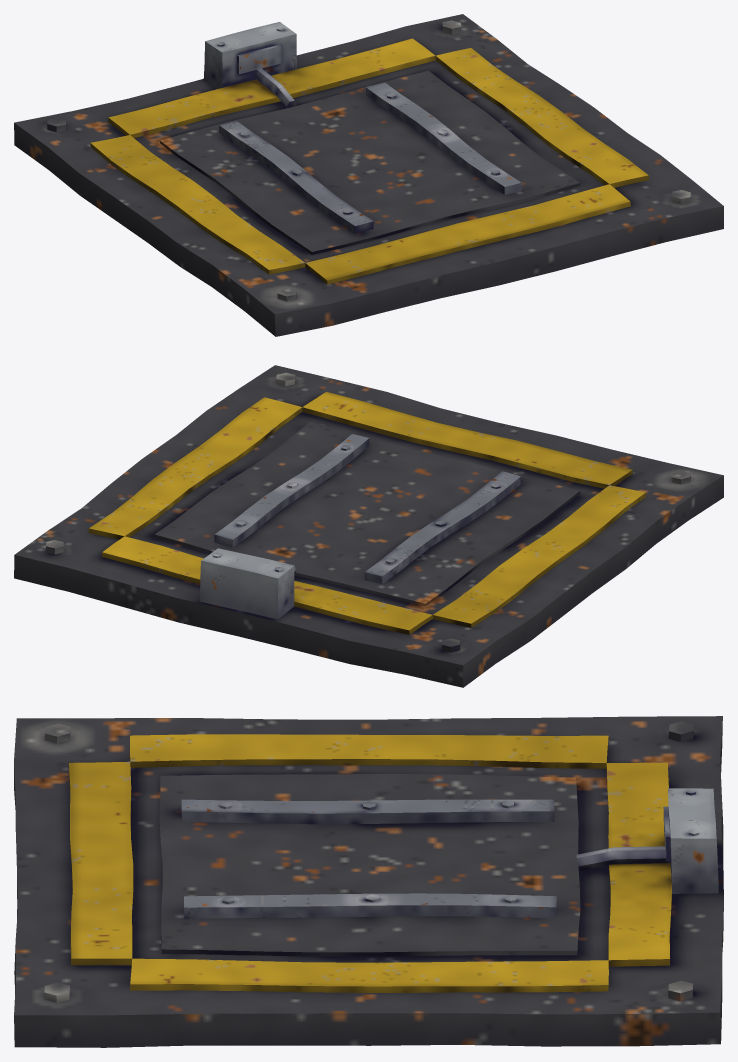
The model's file is MachinePad.glb.
3 renders of one model, top to bottom at view 1: azimuth 30°, elevation 25°; view 2: azimuth 150°, elevation 25°; view 3: azimuth 270°, elevation 25°, orthographic. The views are drawn at different scales.
Parts seen in each view (by area): view 1: Plate, Stripes, Hardware; view 2: Plate, Stripes, Hardware; view 3: Plate, Stripes, Hardware.
Boxes of the visible parts, x1,y1,x2,y2 form: Plate: [14, 14, 723, 336]; Stripes: [90, 38, 648, 284]; Hardware: [203, 22, 521, 233]; Plate: [14, 365, 723, 687]; Stripes: [88, 392, 645, 634]; Hardware: [200, 434, 521, 619]; Plate: [14, 716, 723, 1047]; Stripes: [68, 734, 671, 992]; Hardware: [181, 788, 718, 918].
Bounding box in the file's own units: 6.06 × 0.8703 × 6.07.
3 materials, 3 textured.
